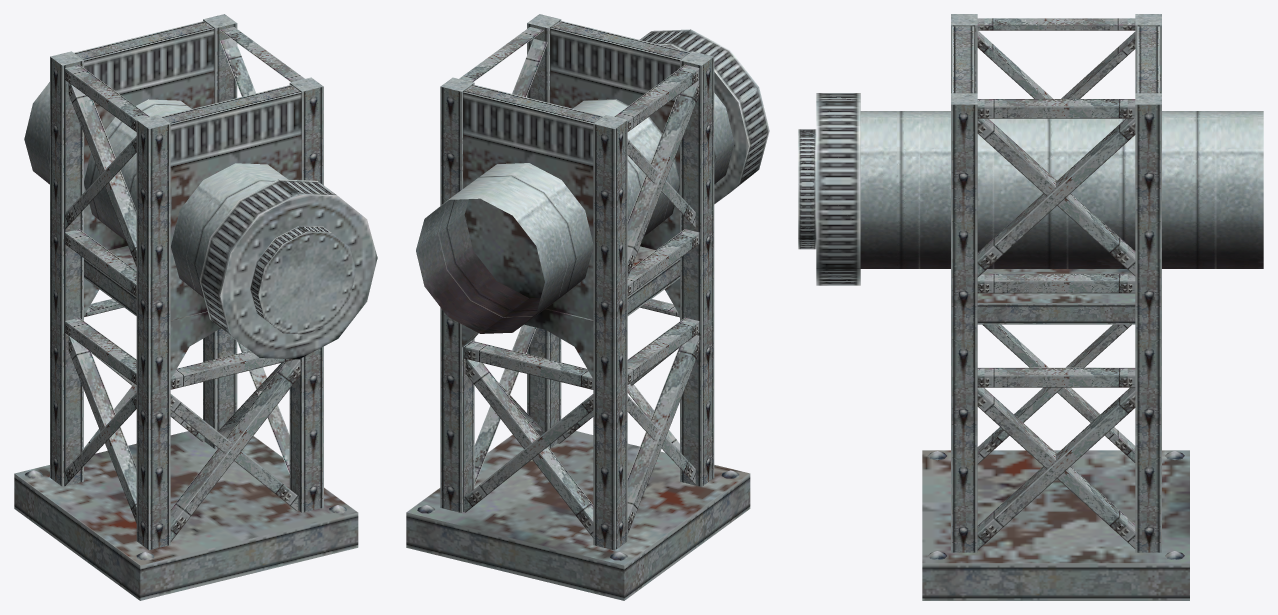
Rendered from pipes_end.fbx.
The picture shows the model from 3 angles, left to right: view 1: azimuth 30°, elevation 25°; view 2: azimuth 150°, elevation 25°; view 3: azimuth 270°, elevation 25°; orthographic projection. The views are drawn at different scales.
Visible parts, largest first — view 1: mesh_1, mesh_0; view 2: mesh_1, mesh_0; view 3: mesh_1, mesh_0.
Boxes of the visible parts, left/top/right/bottom form: mesh_1: left=14, top=14, right=377, bottom=600; mesh_0: left=24, top=82, right=288, bottom=297; mesh_1: left=406, top=14, right=769, bottom=600; mesh_0: left=416, top=93, right=734, bottom=333; mesh_1: left=798, top=14, right=1189, bottom=600; mesh_0: left=860, top=111, right=1263, bottom=268.
Bounding box in the file's own units: 129 × 258 × 224.
2 materials, 2 textured.
